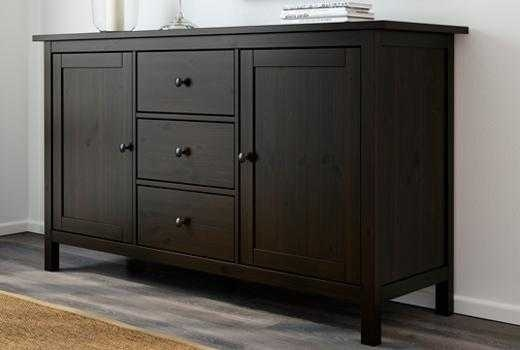obstacle: (33, 21, 467, 344)
